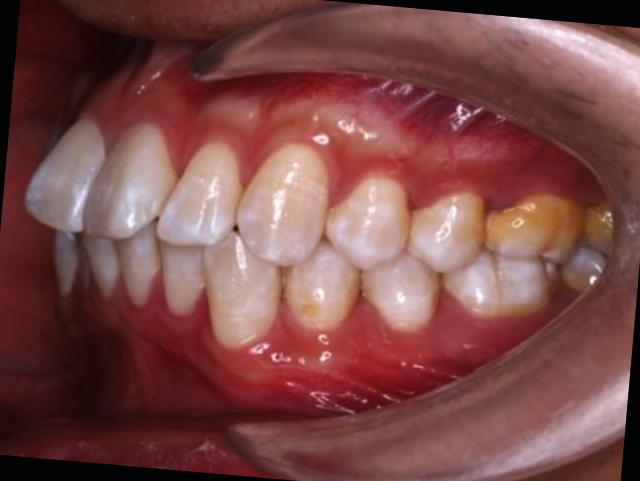canine class II 1/4: (196, 132, 374, 372)
molar class III 1/2: (439, 169, 591, 333)
